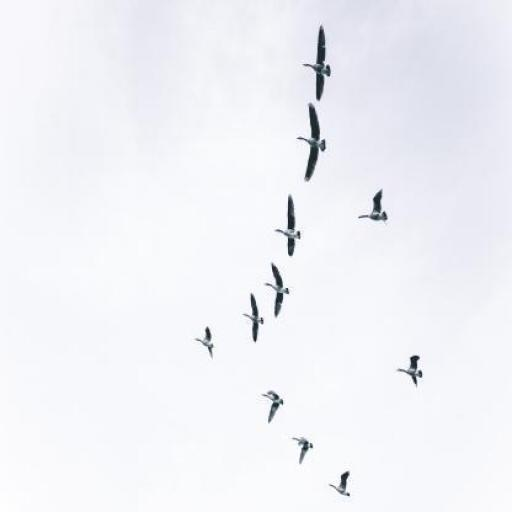bird: (296, 102, 326, 181), (303, 23, 330, 100), (275, 194, 301, 256), (265, 262, 290, 318), (242, 293, 264, 343), (357, 187, 387, 221), (397, 355, 423, 389), (261, 389, 284, 424), (195, 326, 214, 360), (292, 436, 314, 464), (328, 471, 351, 496)
